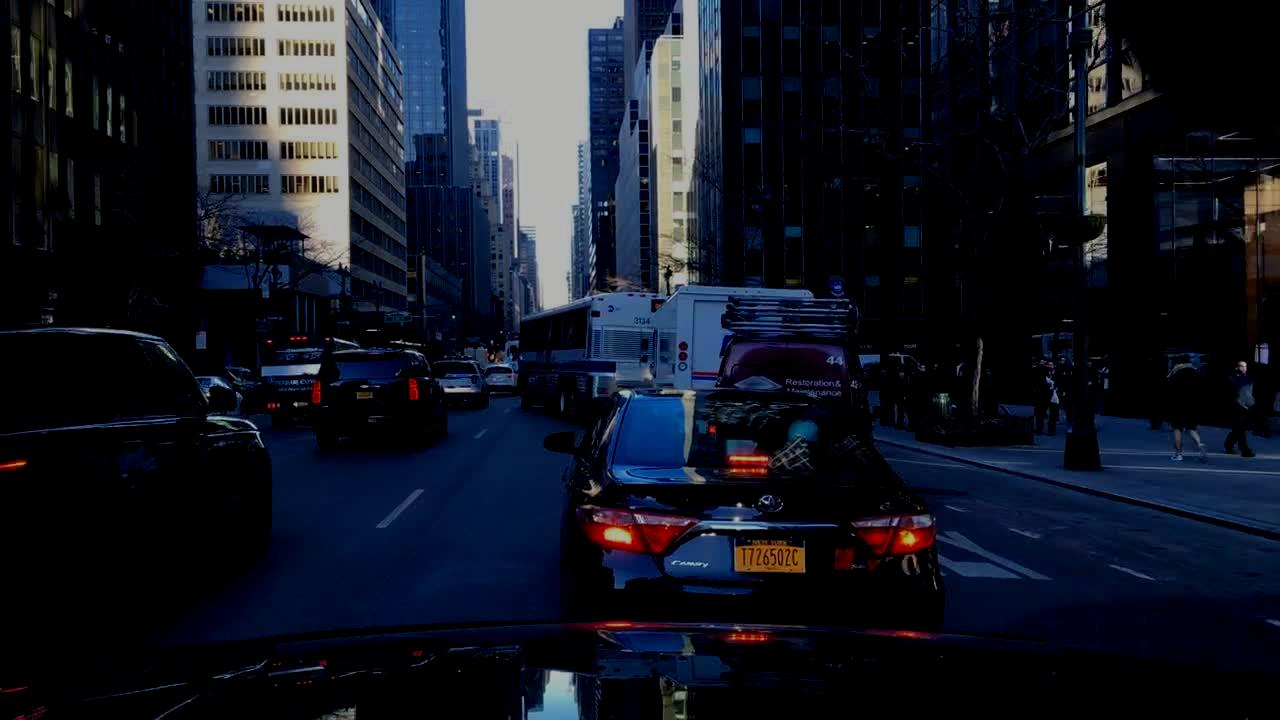Toyota: (749, 484, 793, 522)
